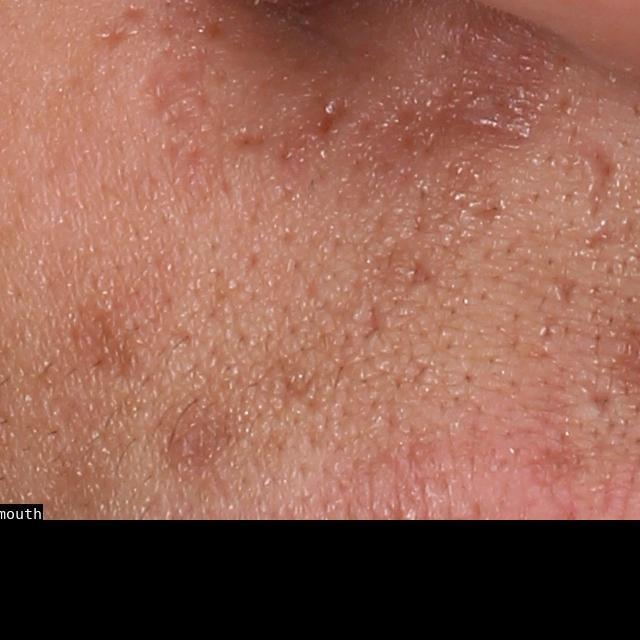atrophic_scar: (233, 86, 359, 182), (583, 143, 615, 222), (580, 220, 621, 255), (400, 259, 438, 294), (358, 294, 387, 339), (552, 275, 589, 309), (584, 382, 615, 417)
